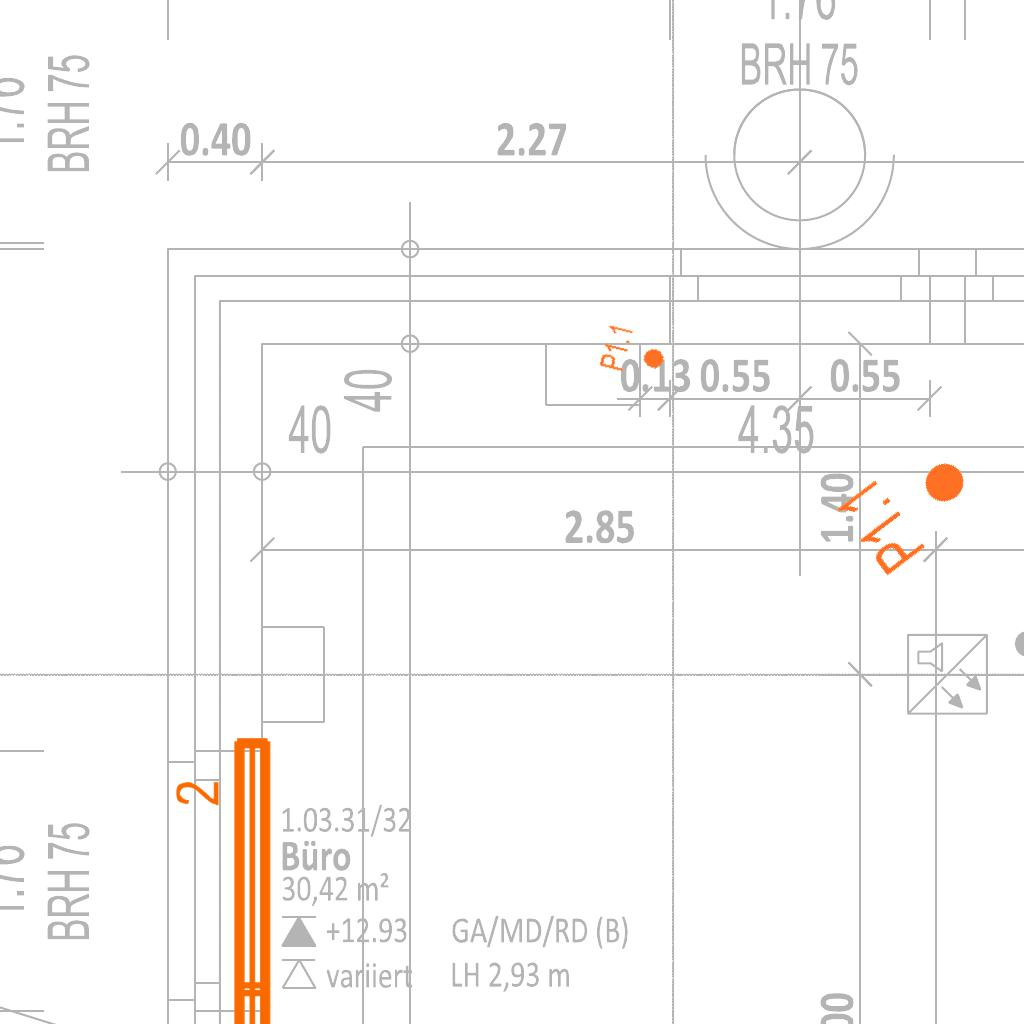Ambulanz_Pendelleuchte_LED: (171, 729, 283, 1024)
Downlight_LED_Einbauleuchten_Flur: (830, 429, 989, 581), (597, 321, 671, 383)
